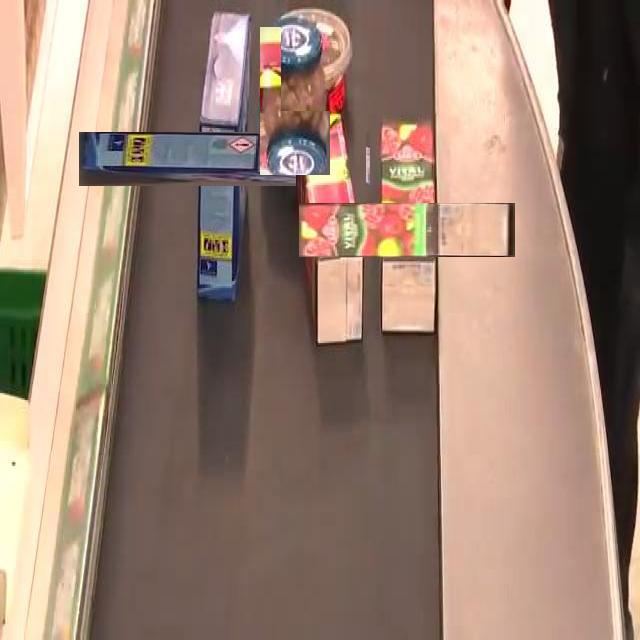food-box: (340, 162, 475, 298), (296, 115, 366, 353), (259, 26, 330, 175), (282, 3, 352, 111)
utility-box: (138, 73, 311, 245)
